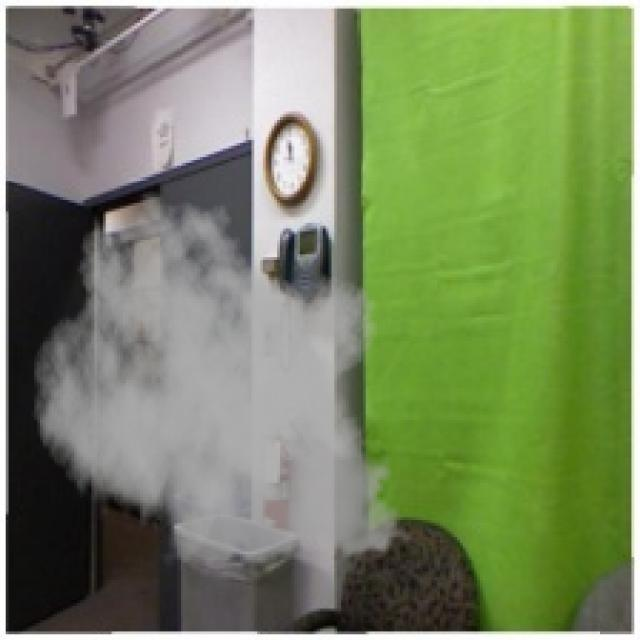smoke: (32, 189, 417, 580)
